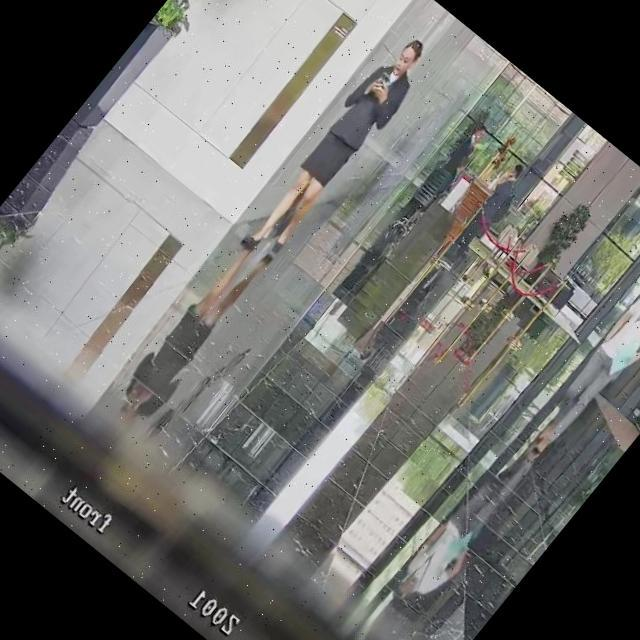person: (233, 27, 442, 269), (514, 260, 640, 477), (388, 116, 496, 240), (434, 162, 532, 276)
